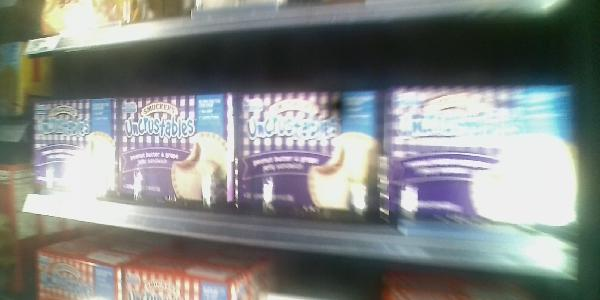icecream: (383, 70, 581, 247), (230, 78, 382, 228), (114, 87, 232, 222), (27, 94, 119, 210)
